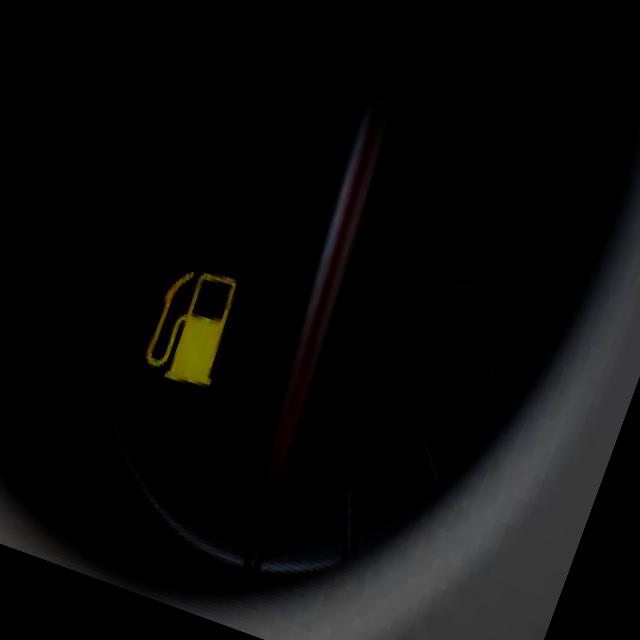kontrolka: (127, 232, 269, 414)
